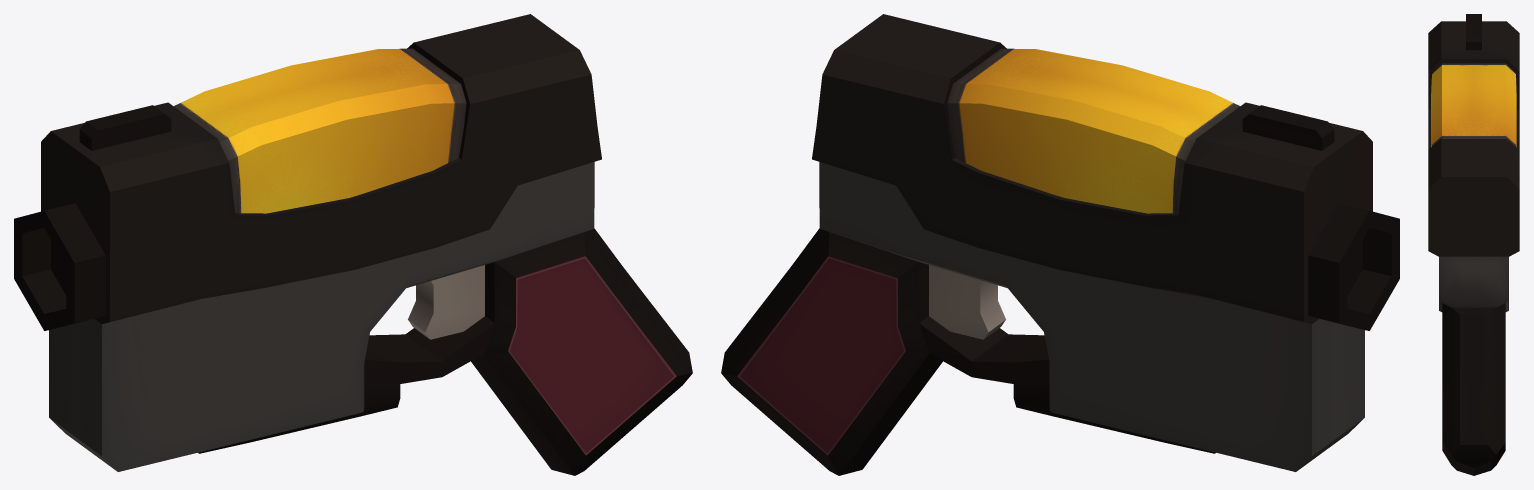
Rendered from weapon_blaster.fbx.
3 views of the same model, side by side, from view 1: azimuth 30°, elevation 25°; view 2: azimuth 150°, elevation 25°; view 3: azimuth 270°, elevation 25° (orthographic). The views are drawn at different scales.
Visible parts, largest first — view 1: Cube.001; view 2: Cube.001; view 3: Cube.001.
Boxes of the visible parts, <box> form: Cube.001: <box>14,14,692,475</box>; Cube.001: <box>721,14,1399,475</box>; Cube.001: <box>1428,14,1519,475</box>.
Bounding box in the file's own units: 225 × 155 × 42.27.
Materials: 2 (2 with a texture image).
